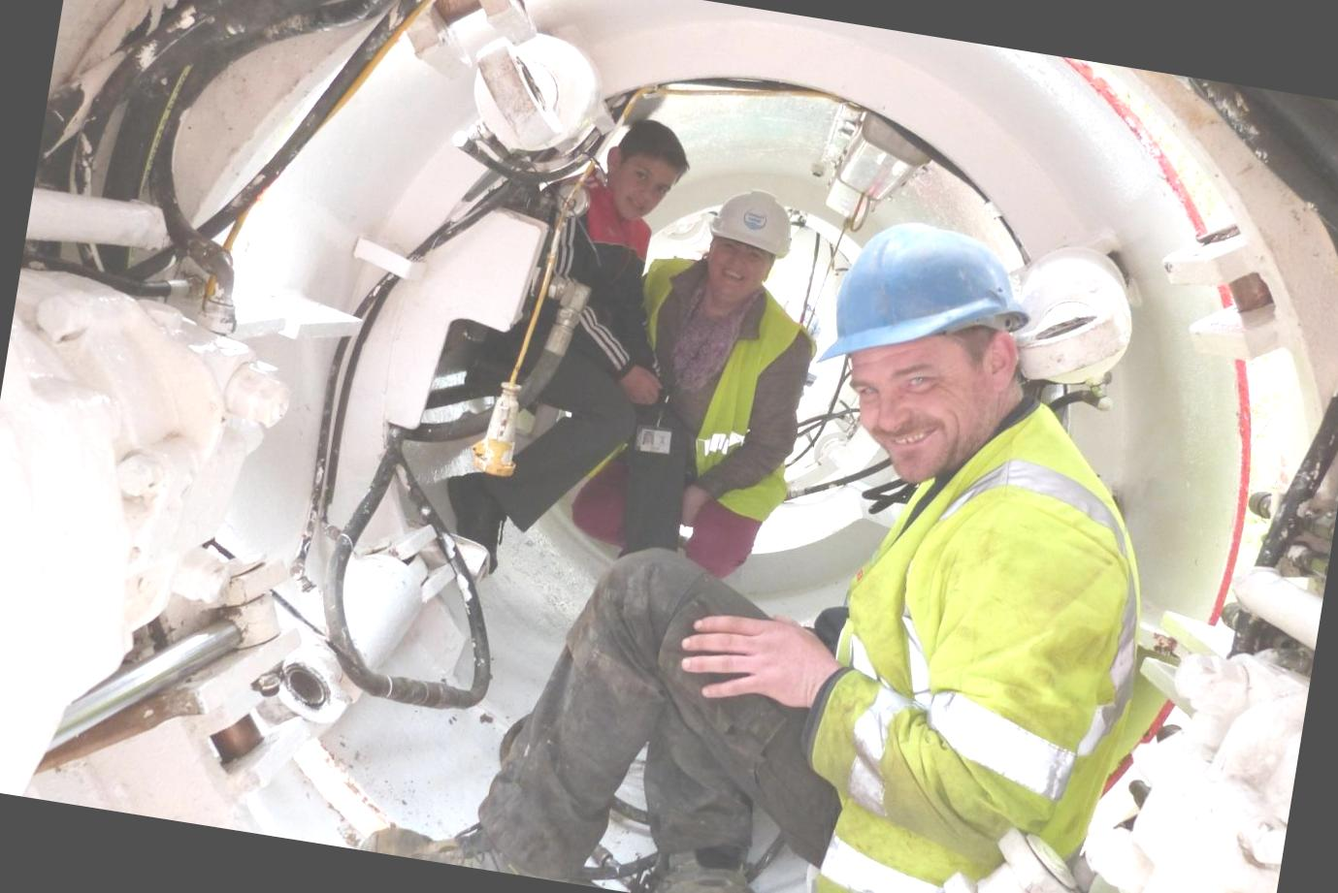helmet: (811, 211, 1046, 399), (695, 179, 808, 275)
person: (716, 195, 1216, 893)
